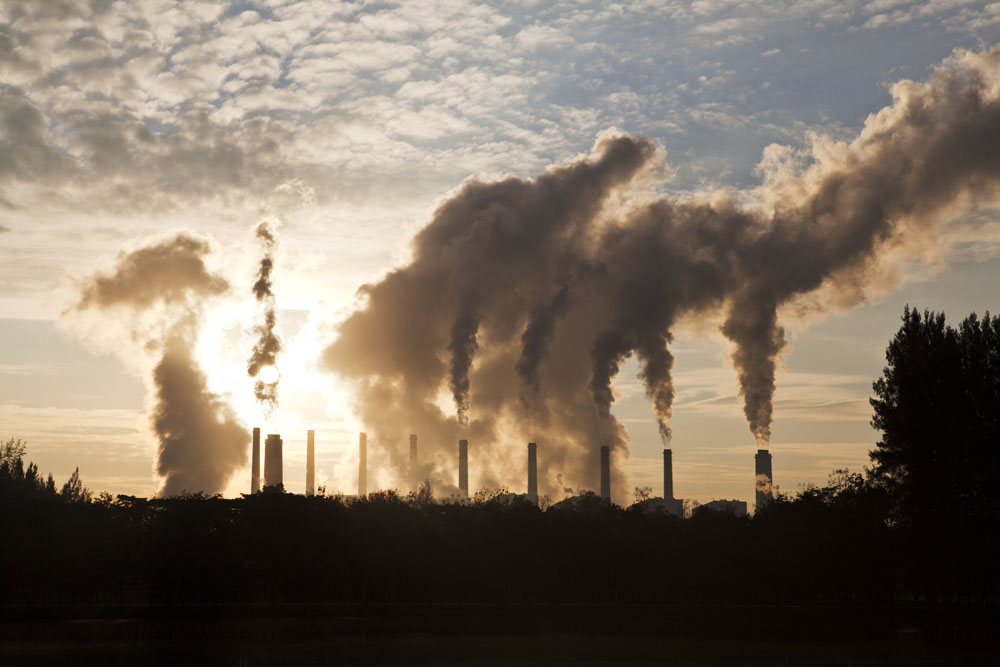dust: (721, 50, 989, 460), (624, 278, 703, 460), (505, 264, 578, 451), (436, 213, 486, 450), (578, 308, 645, 451)
